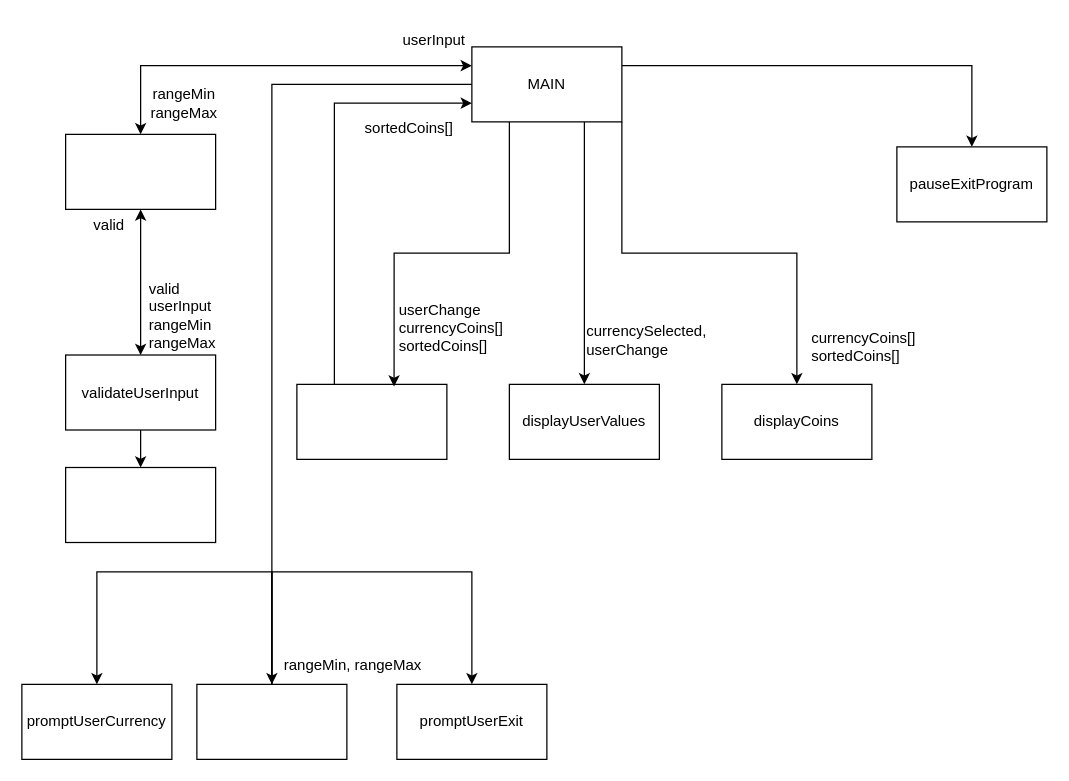
Some shapes in this 1069 by 781 pixel diagram are drawn without their labels. The shapes that lost their labels are listed below. From the top down, each one's centre as x and y in pixels, then its label:
At point (140, 171): "getUserInput".
At point (371, 421): "calculateCoins".
At point (140, 504): "clearInputBuffer".
At point (271, 721): "promptUserChange".
